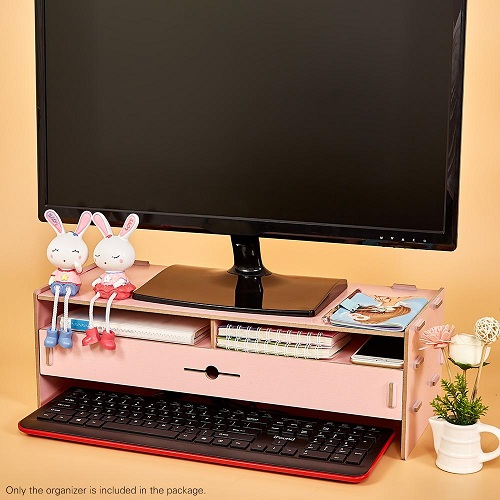Teclado: (15, 378, 402, 485)
